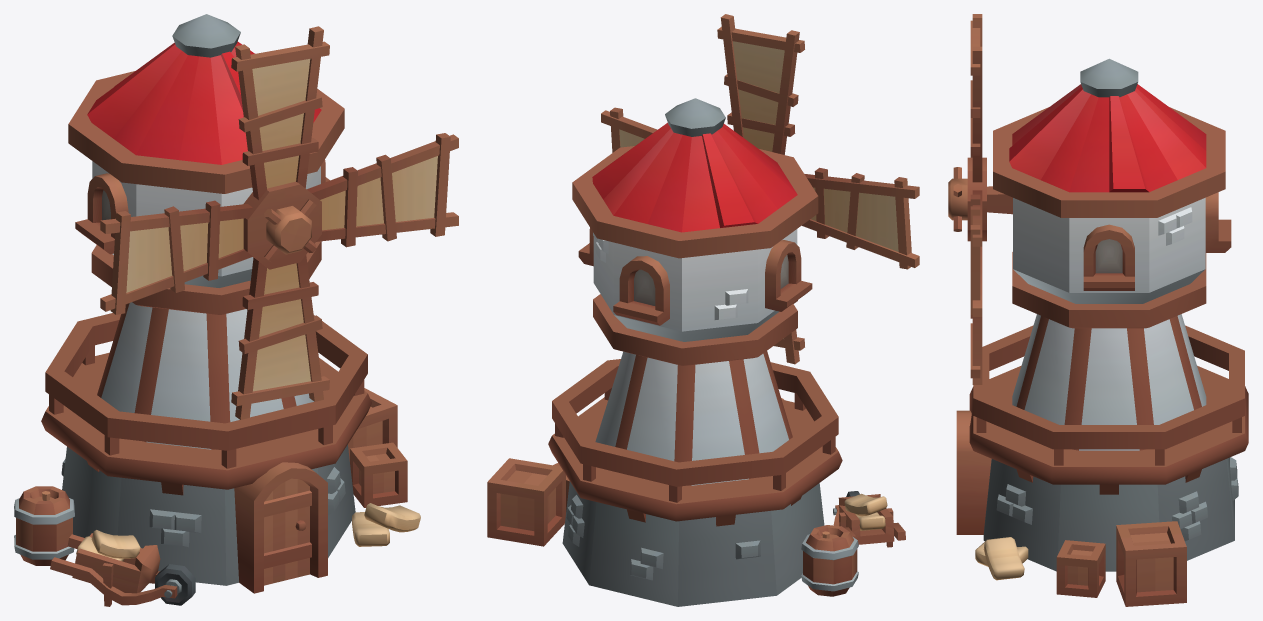
File: kay-moinho-vermelho.gltf
3 views of the same model, side by side, from view 1: azimuth 30°, elevation 25°; view 2: azimuth 150°, elevation 25°; view 3: azimuth 270°, elevation 25° (orthographic). The views are drawn at different scales.
Parts seen in each view (by area): view 1: building_windmill_red; view 2: building_windmill_red; view 3: building_windmill_red.
Part boxes in pixels (bbox=[...]): building_windmill_red: bbox=[14, 14, 458, 606]; building_windmill_red: bbox=[487, 14, 919, 606]; building_windmill_red: bbox=[948, 14, 1248, 606].
Size of the model in its own units: 5.63 by 7.29 by 4.08.
Materials: 1 (1 with a texture image).
